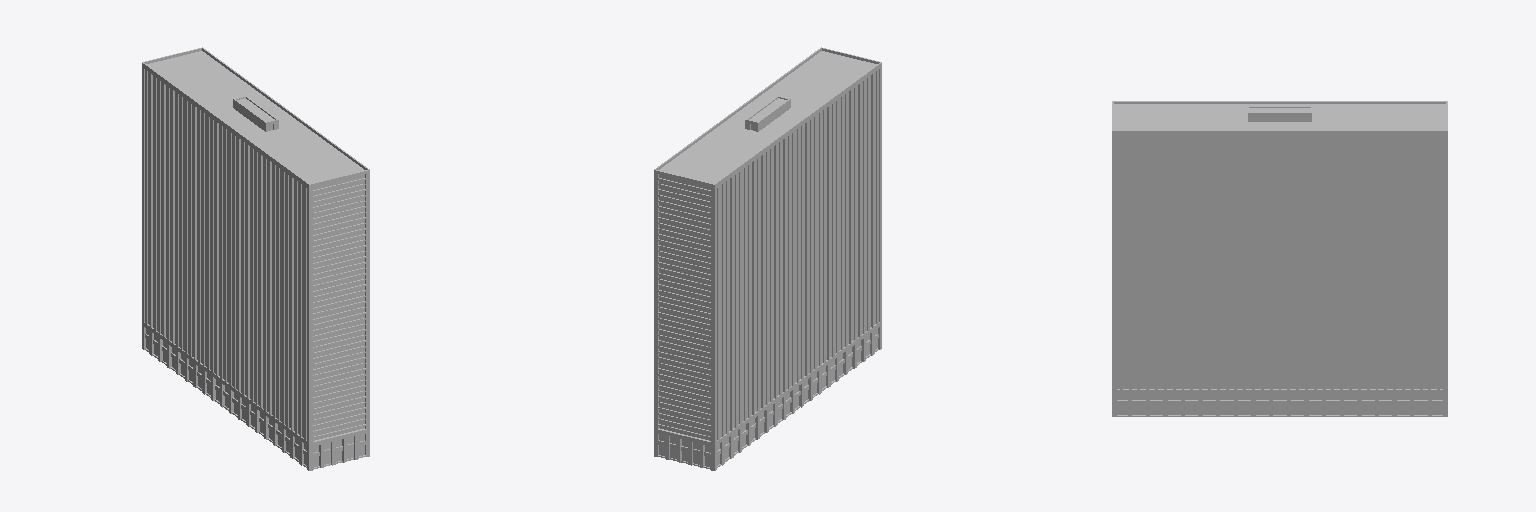
The model's file is Building3.obj.
The picture shows the model from 3 angles: view 1: azimuth 30°, elevation 25°; view 2: azimuth 150°, elevation 25°; view 3: azimuth 270°, elevation 25°; orthographic projection.
Visible parts, largest first — view 1: s5; view 2: s5; view 3: s5.
Part boxes in pixels (bbox=[...]): s5: bbox=[142, 47, 369, 470]; s5: bbox=[654, 47, 881, 470]; s5: bbox=[1112, 101, 1447, 416].
Size of the model in its own units: 24 by 110 by 114.